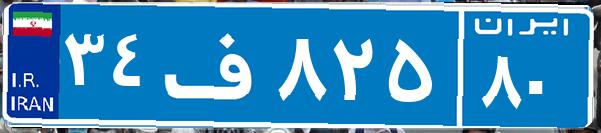0: (525, 38, 570, 115)
2: (330, 28, 385, 110)
3: (57, 26, 110, 107)
4: (110, 28, 158, 105)
5: (385, 28, 445, 110)
8: (273, 28, 330, 110), (475, 38, 525, 113)
ف: (158, 15, 273, 115)
